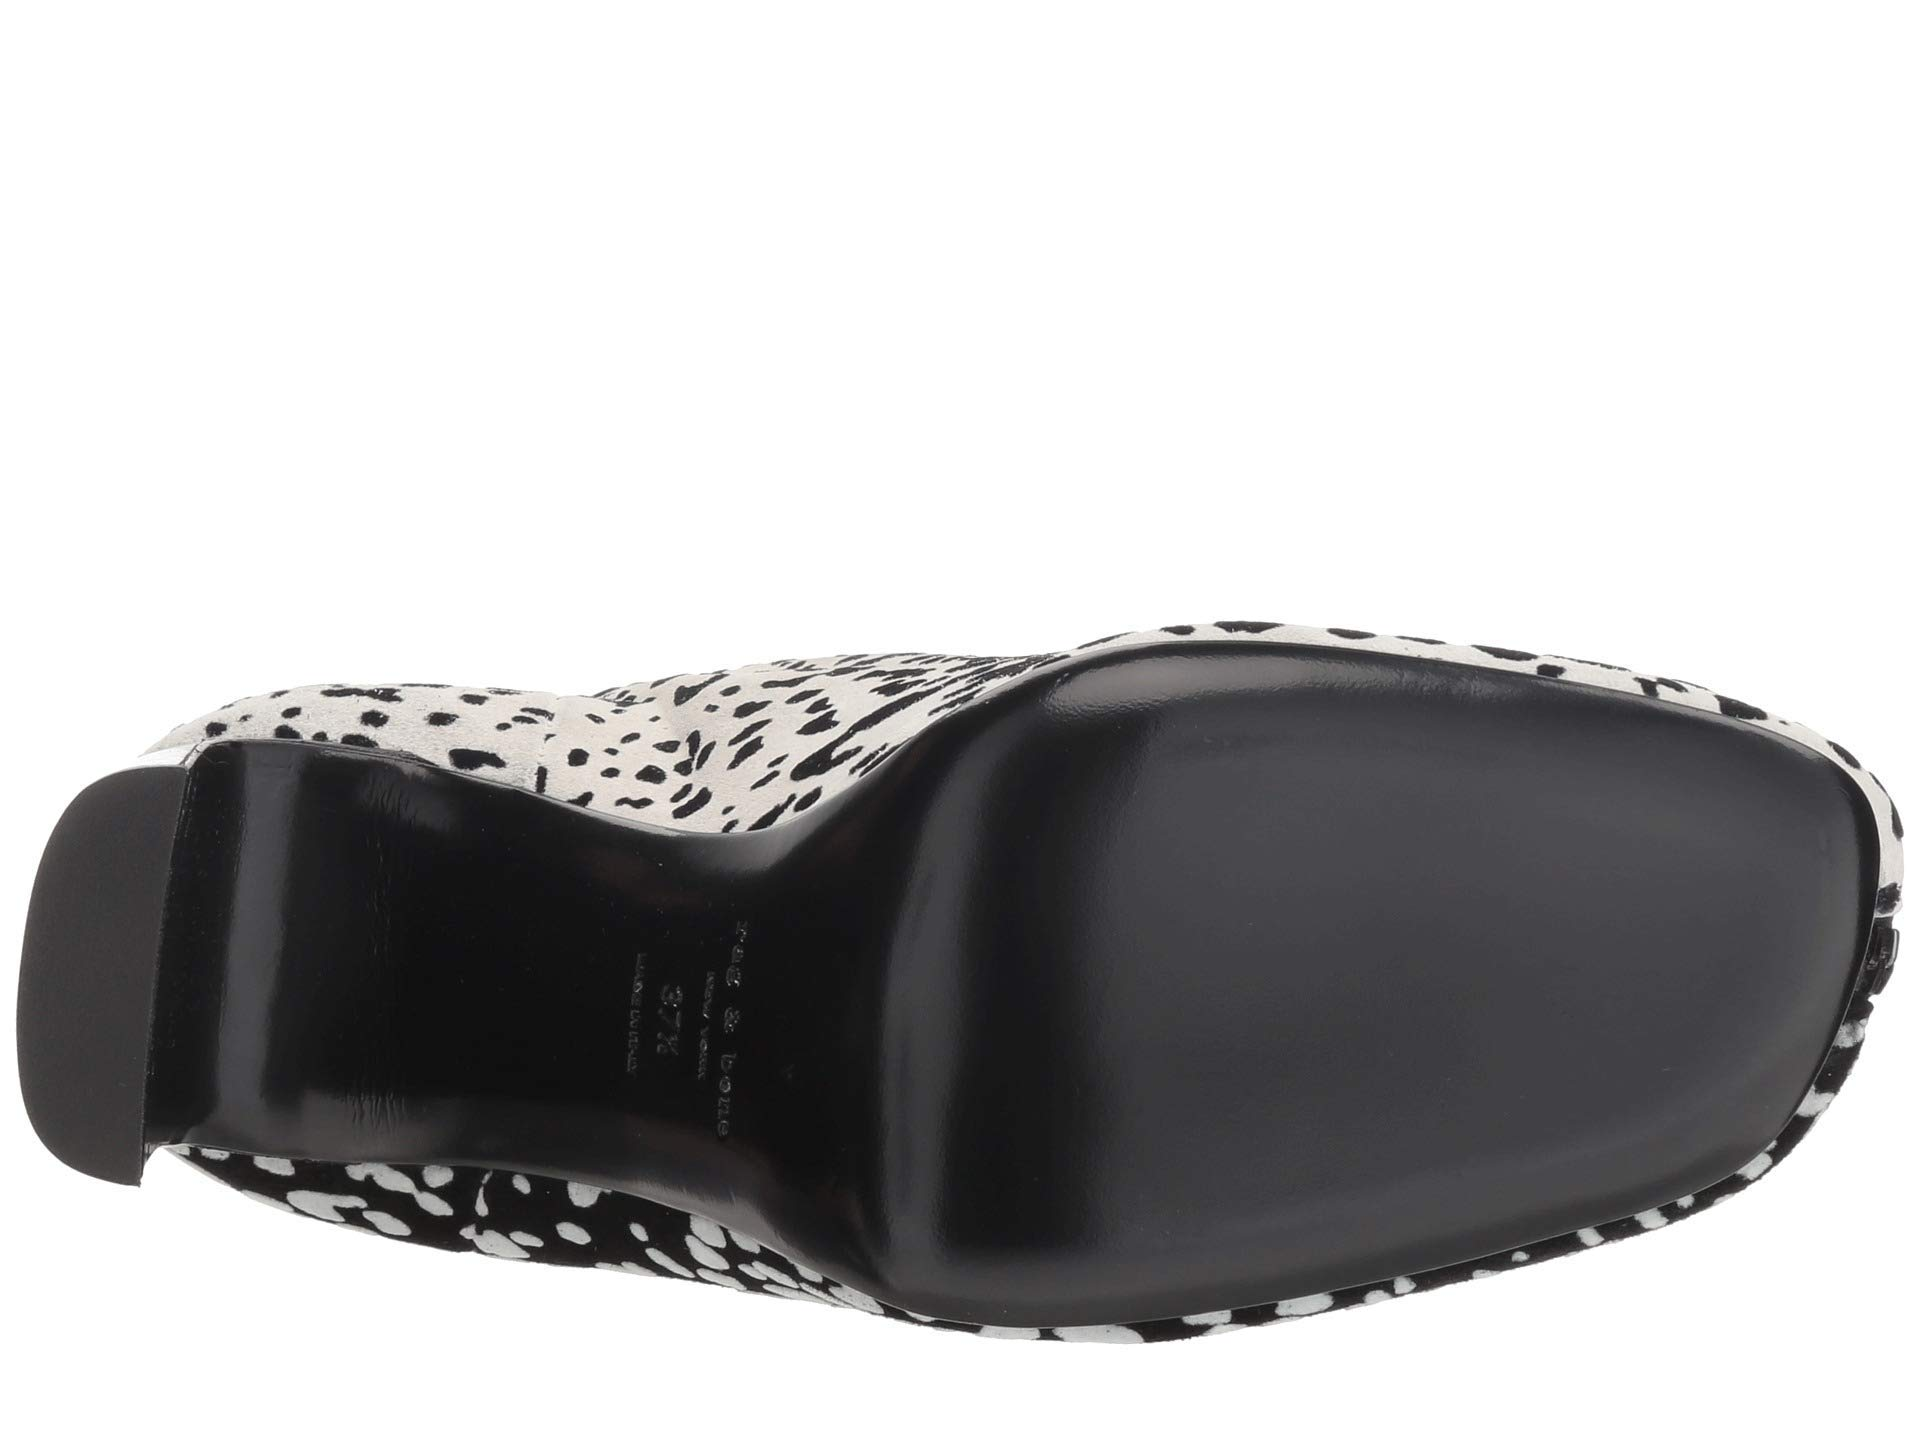exclude: (428, 777, 776, 1268)
quad: (32, 767, 195, 1199)
